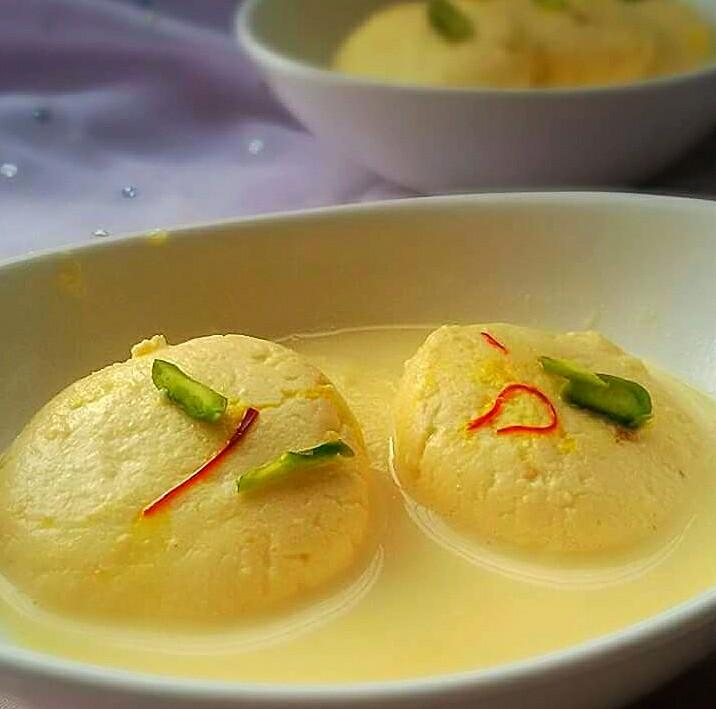RasMalai: (0, 308, 716, 674)
